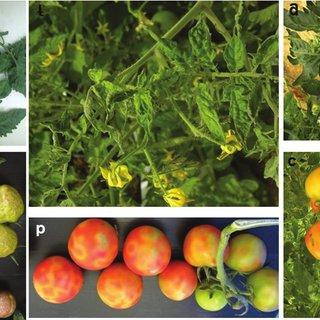Tomato leaf mosaic virus: (197, 82, 223, 138), (187, 16, 217, 64), (230, 81, 251, 141), (253, 35, 278, 72), (224, 33, 246, 74)
